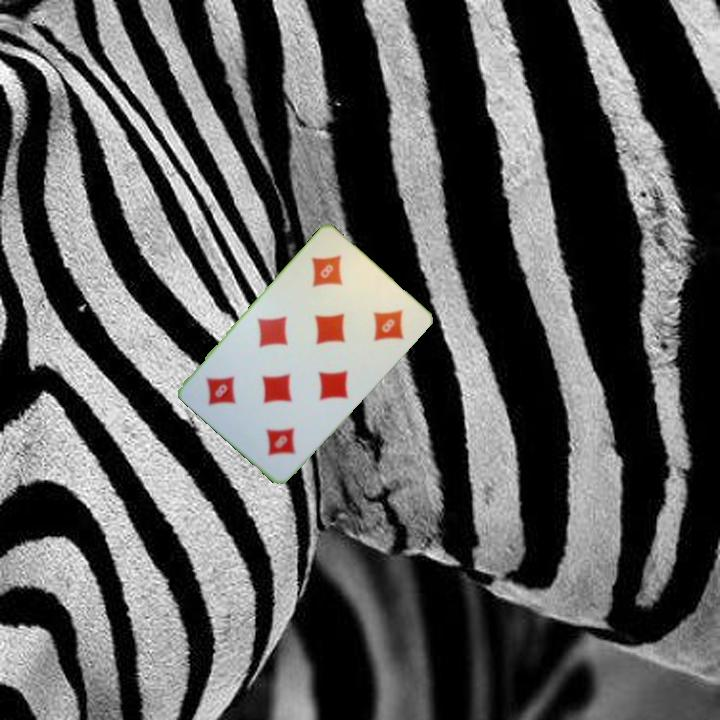d_8.png: (233, 390, 319, 475), (290, 235, 376, 320)
